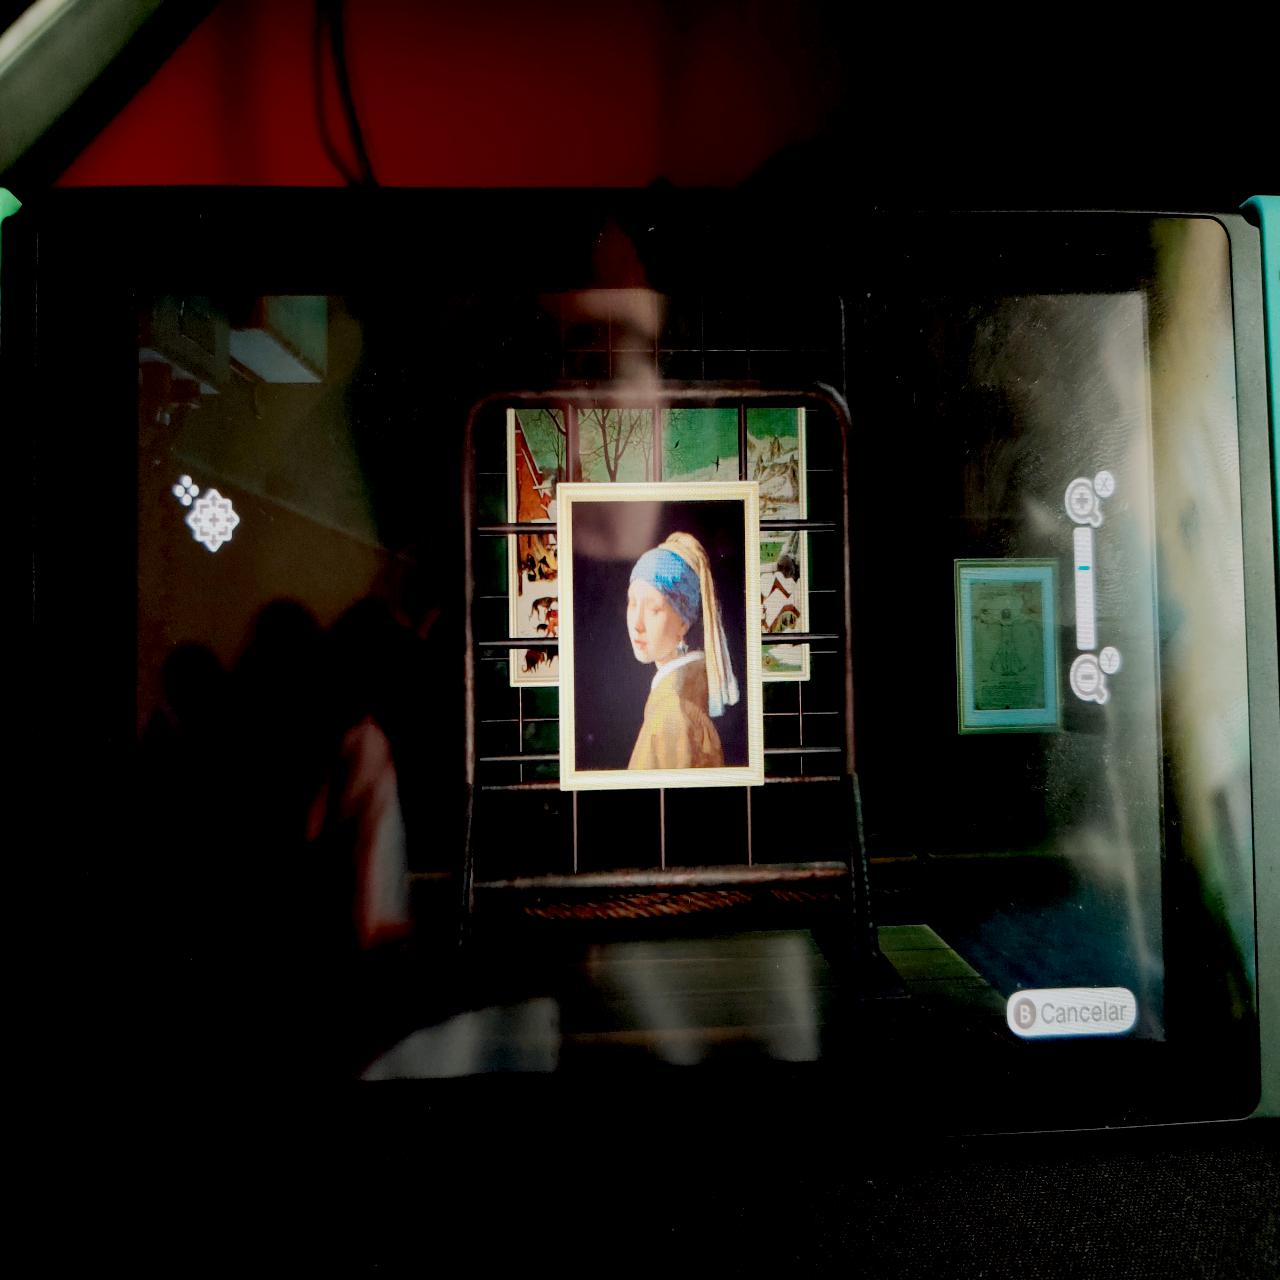PearlEarringFake: (573, 502, 747, 765)
